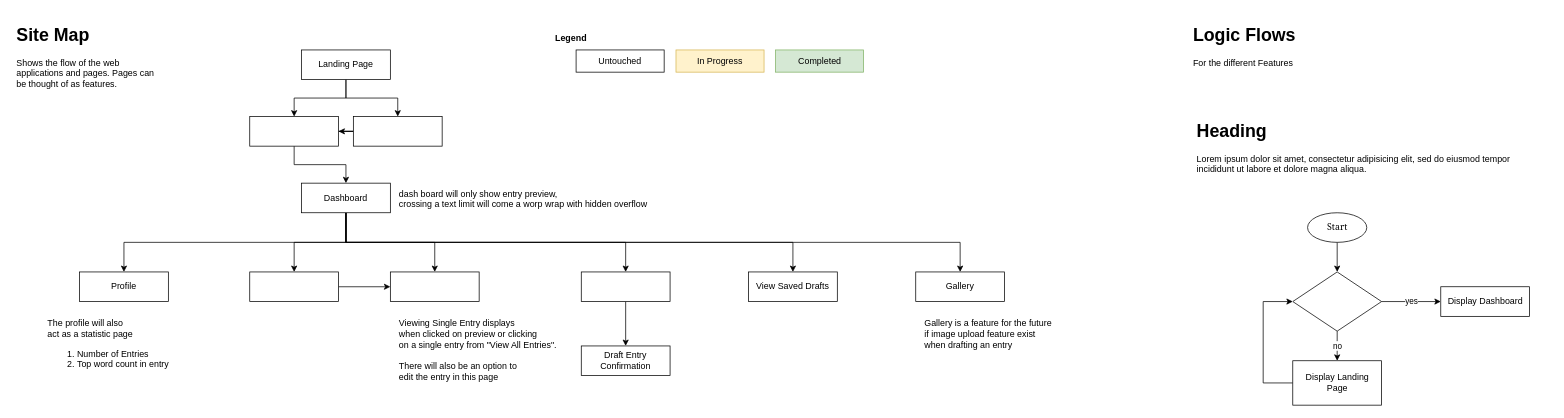
The diagram is 1564 pixels wide and 418 high, and some of its shapes have lost their labels. The shapes that lost their labels are listed below. From the top down, each one's centre as x and y in pixels, then its label:
At point (294, 131): "Login".
At point (397, 131): "Sign Up".
At point (294, 286): "View All Entries".
At point (434, 286): "View Single Entry".
At point (625, 286): "Draft Entry".
At point (1337, 301): "Logged In?".
